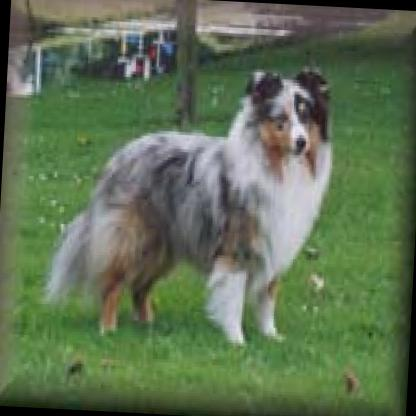Shetland_sheepdog: (41, 47, 339, 353)
